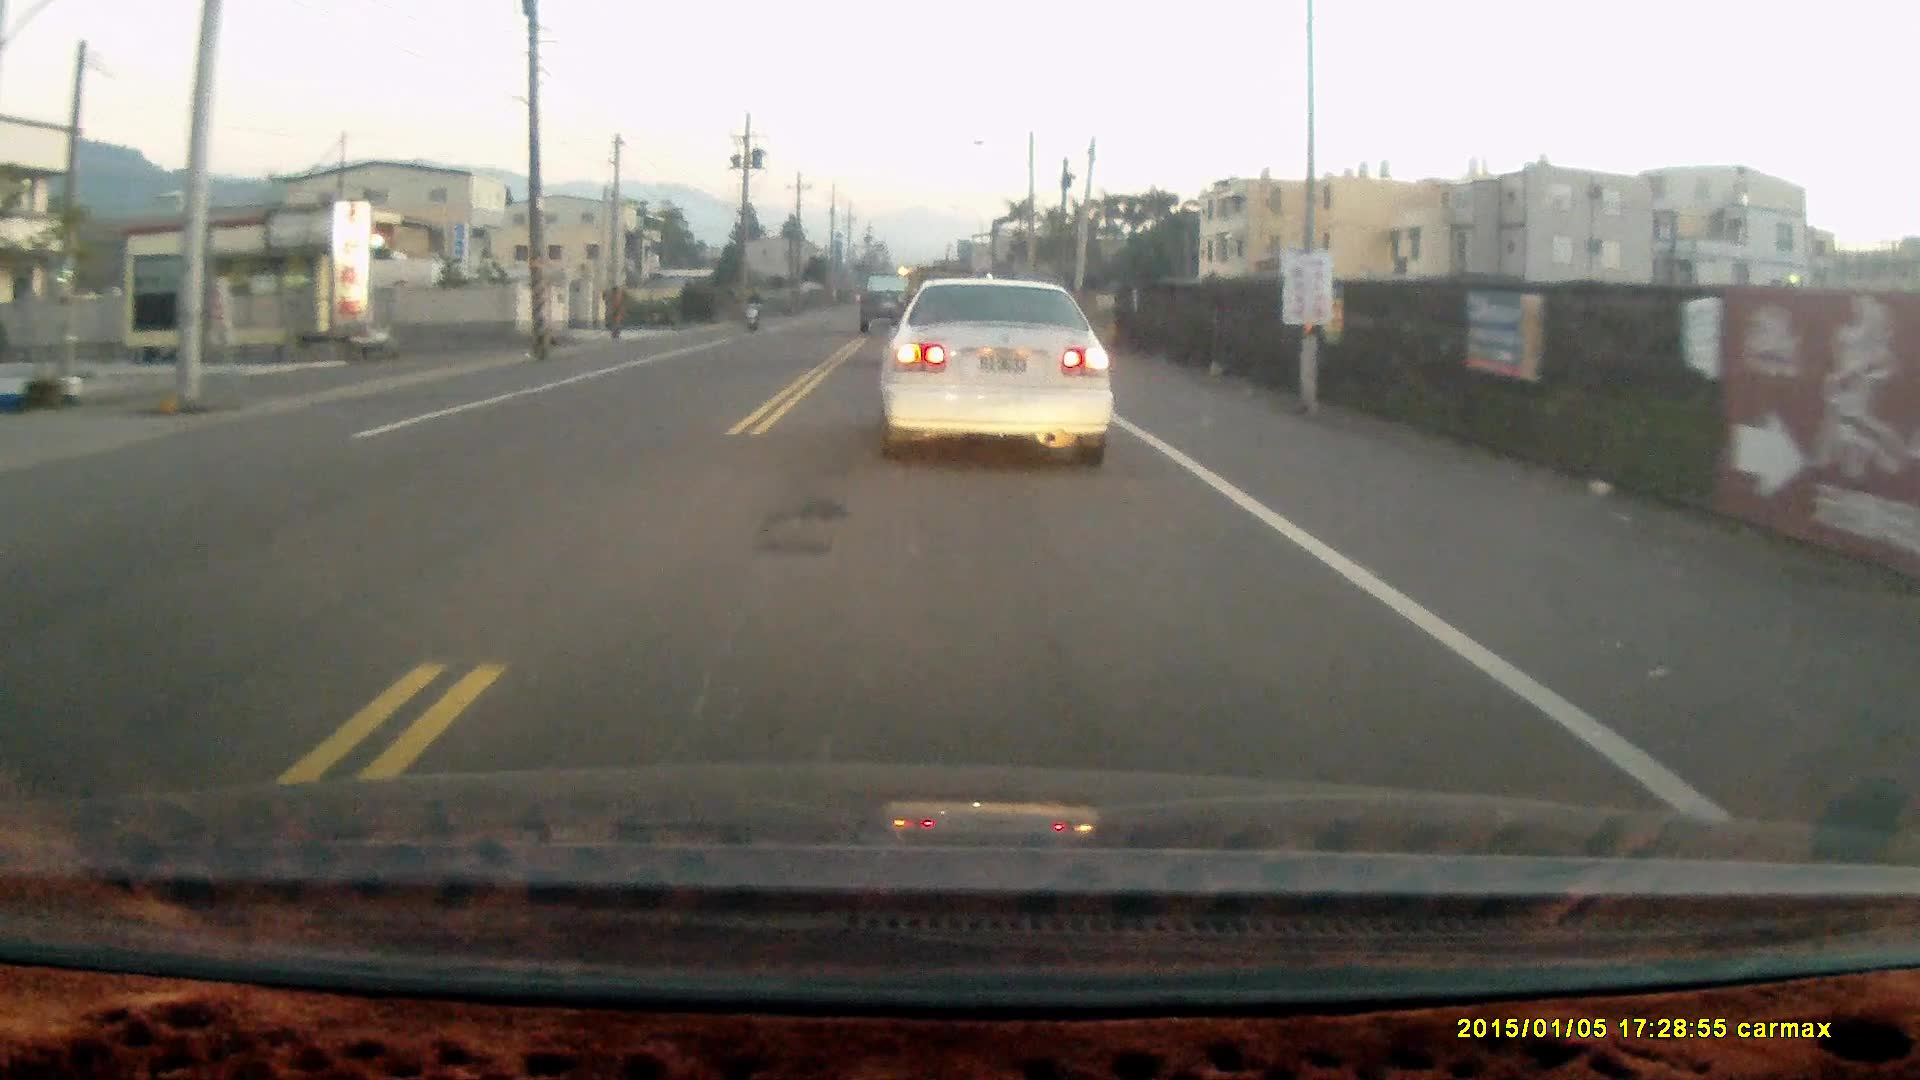rider: (739, 285, 762, 333)
vehicle: (872, 278, 1115, 470), (858, 270, 921, 343)
